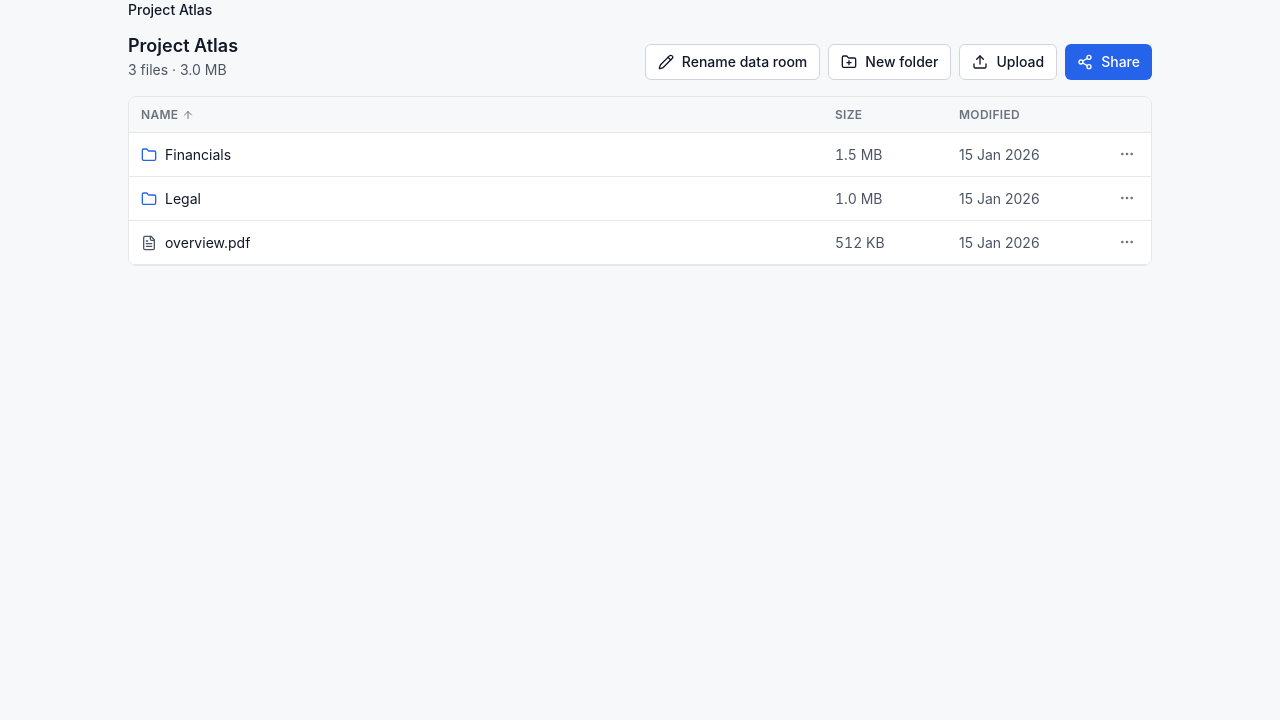
Test: DeleteConfirmDialog › requires typing the folder name once the subtree passes 50 items
The image size is (1280, 720).
Check: the button "Financials" is shown, box [141,144,231,164]
Click the button named "Actions for Financials" at (1127, 154), box [1115,142,1139,166]
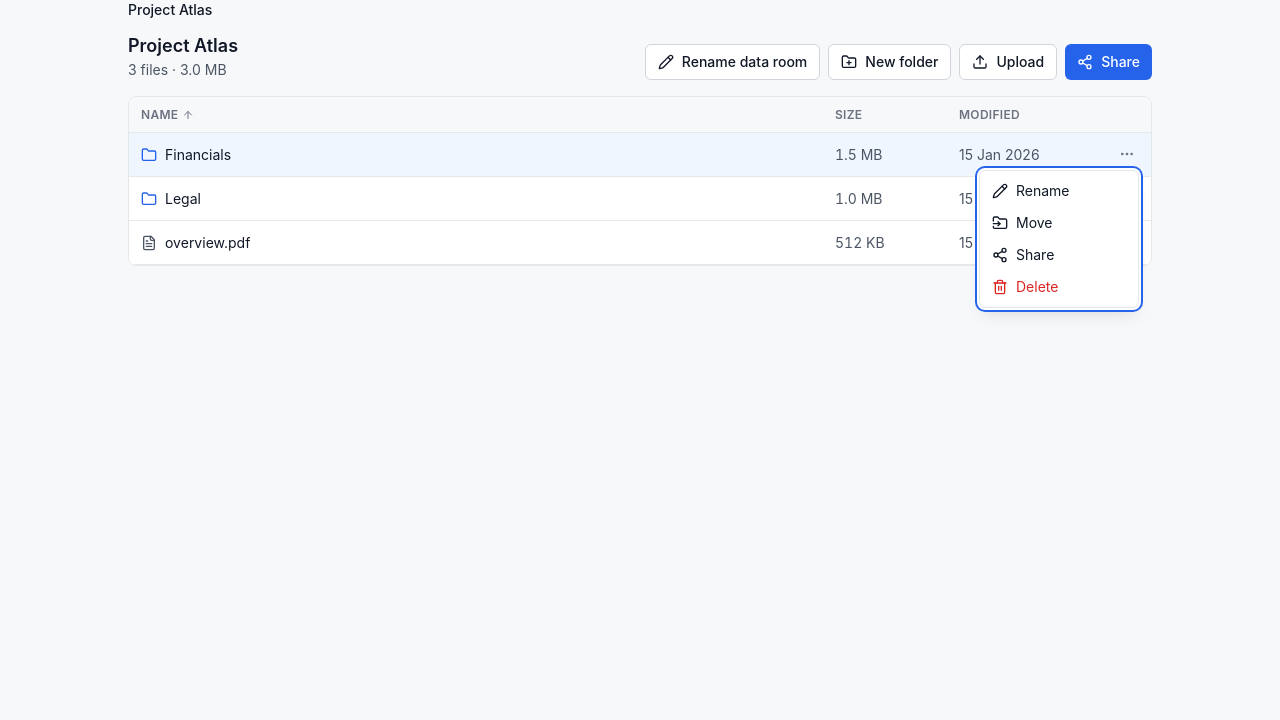
Click the menu item "Delete" at (1025, 286), box [992,278,1058,295]
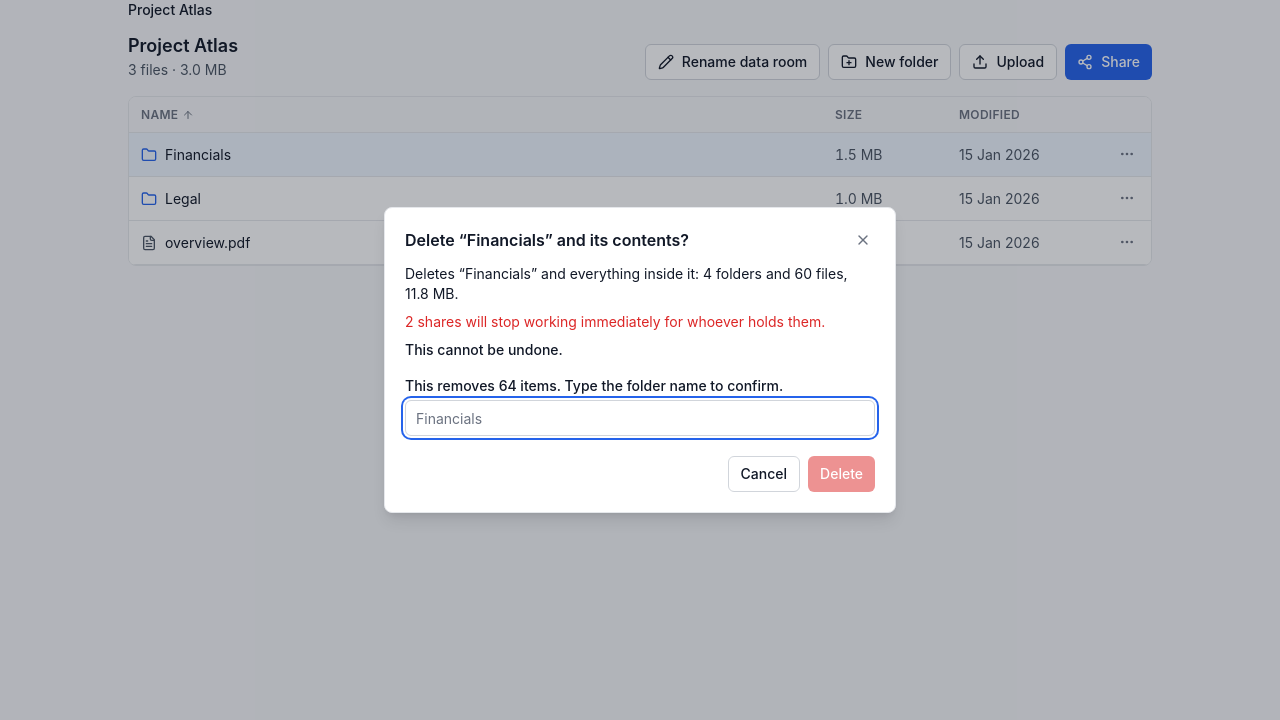
Check: the button "Delete" is disabled, box [808,456,875,492]
Check: the text "This removes 64 items. Type the folder name to confirm." is shown, box [405,377,783,394]
Type "Financial" into the field labelled "This removes 64 items. Type the folder name to confirm." at (640, 418), box [405,400,875,436]
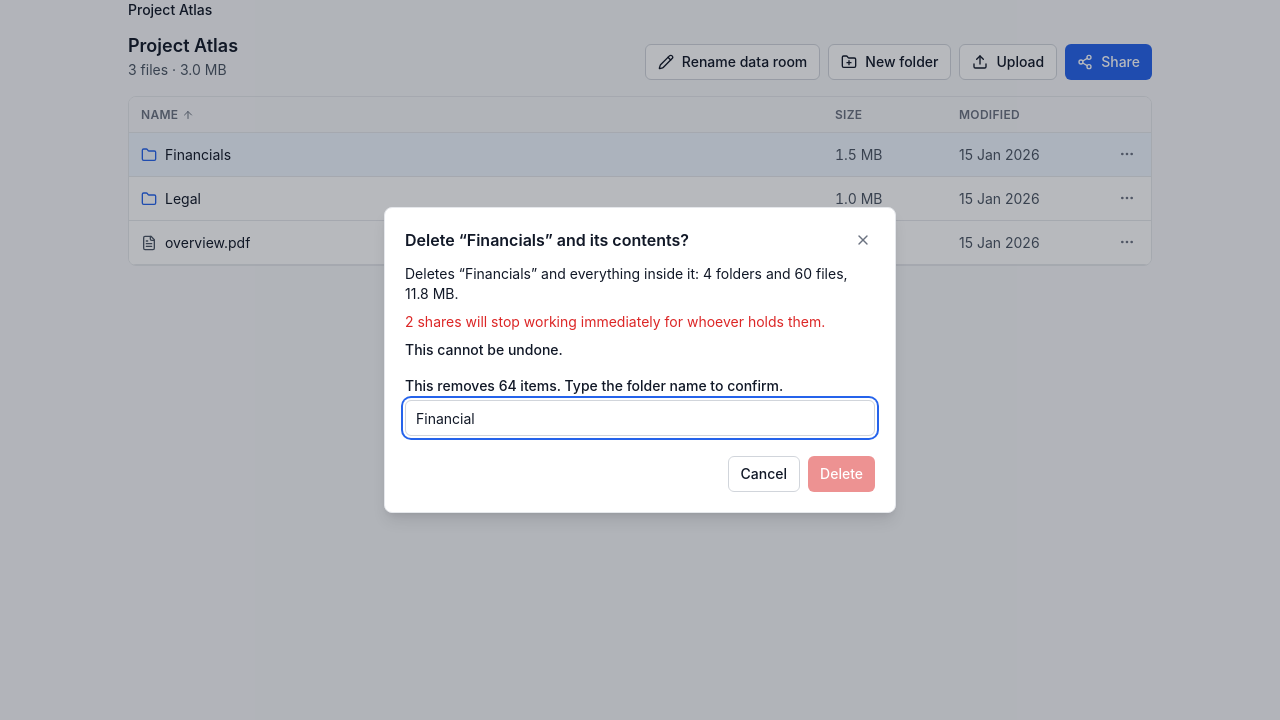
Check: the button "Delete" is disabled, box [808,456,875,492]
Type "s" into the field labelled "This removes 64 items. Type the folder name to confirm." at (640, 418), box [405,400,875,436]
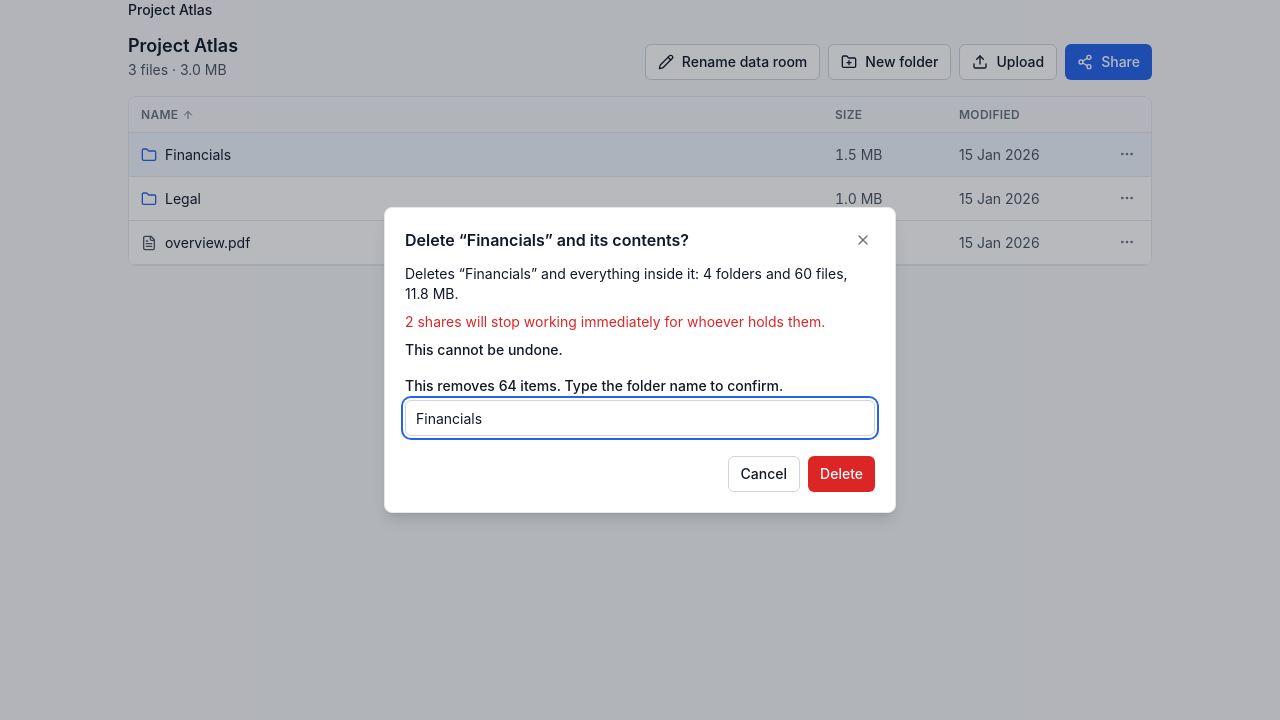
Check: the button "Delete" is enabled, box [808,456,875,492]
